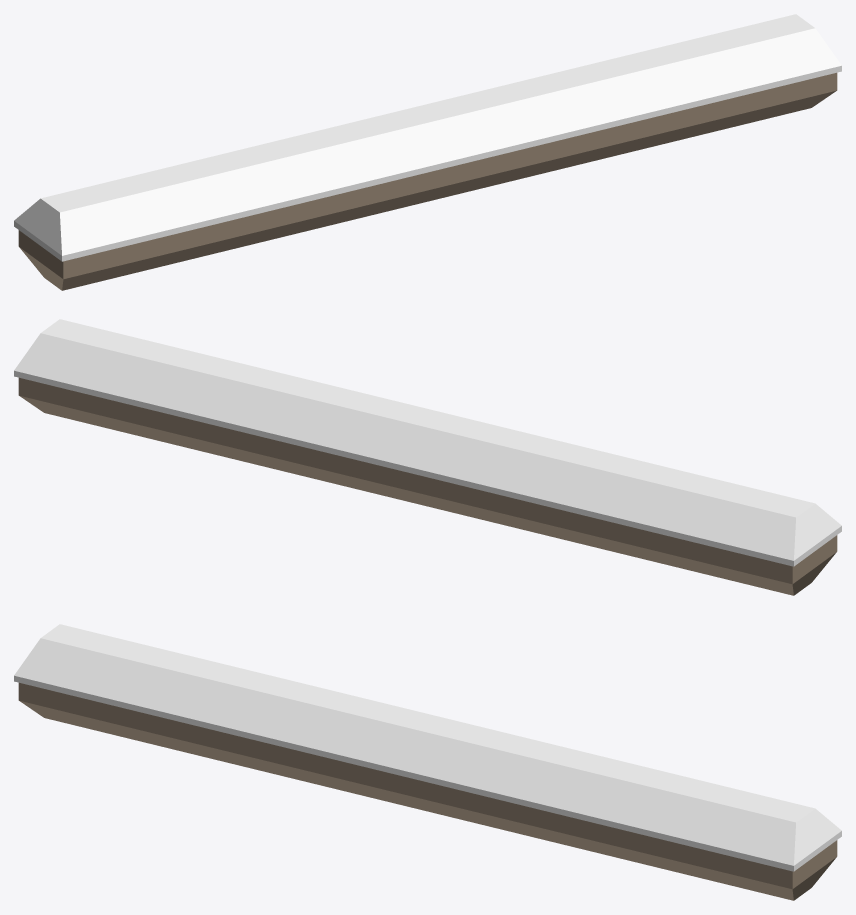
Rendered from Mesh_Lampe_02.fbx.
3 renders of one model, top to bottom at view 1: azimuth 30°, elevation 25°; view 2: azimuth 150°, elevation 25°; view 3: azimuth 330°, elevation 25°, orthographic.
Visible parts, largest first — view 1: Mesh_Lampe_02; view 2: Mesh_Lampe_02; view 3: Mesh_Lampe_02.
Boxes of the visible parts, left/top/right/bottom form: Mesh_Lampe_02: left=14, top=14, right=841, bottom=290; Mesh_Lampe_02: left=14, top=319, right=841, bottom=595; Mesh_Lampe_02: left=14, top=624, right=841, bottom=900.
Size of the model in its own units: 141 by 13.72 by 15.05.
